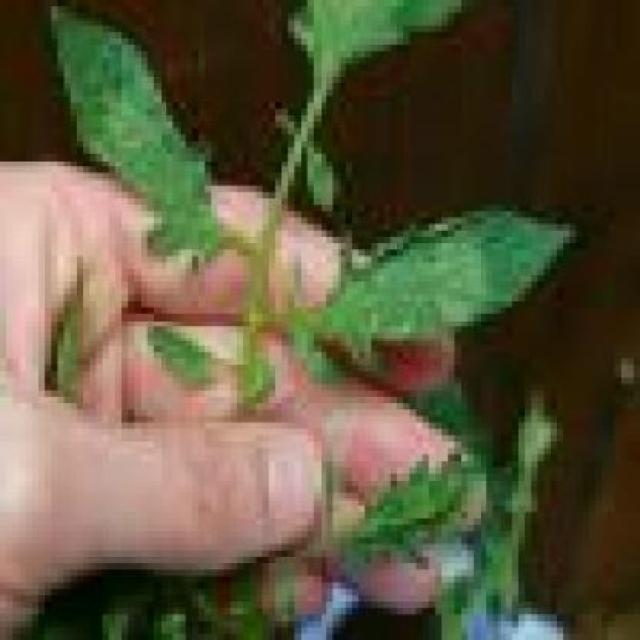Healthy Leaf: (269, 211, 576, 403), (44, 12, 230, 282), (320, 442, 486, 583)
